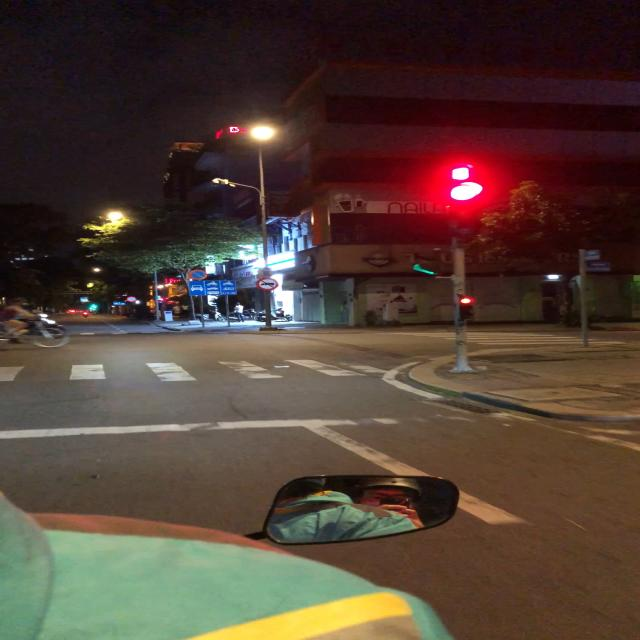Bien bao cam do xe: (186, 267, 209, 281)
Bien bao cam xe so-mi ro-mooc: (254, 276, 281, 292)
